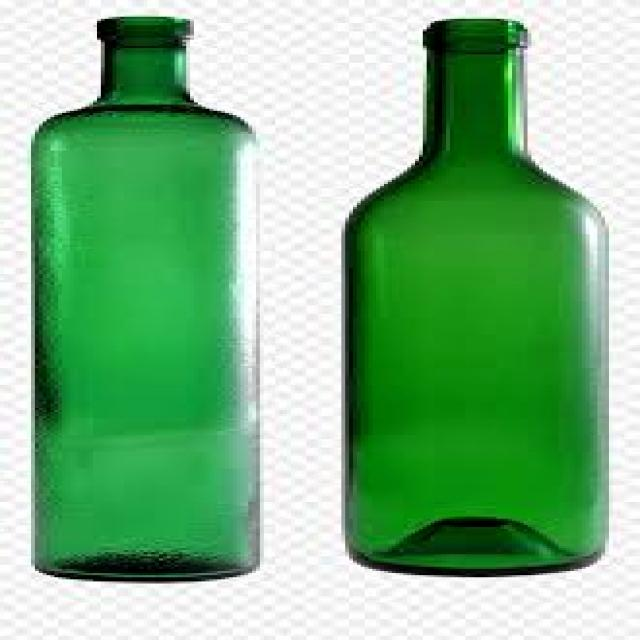Glass: (331, 13, 617, 580), (21, 12, 270, 581)
